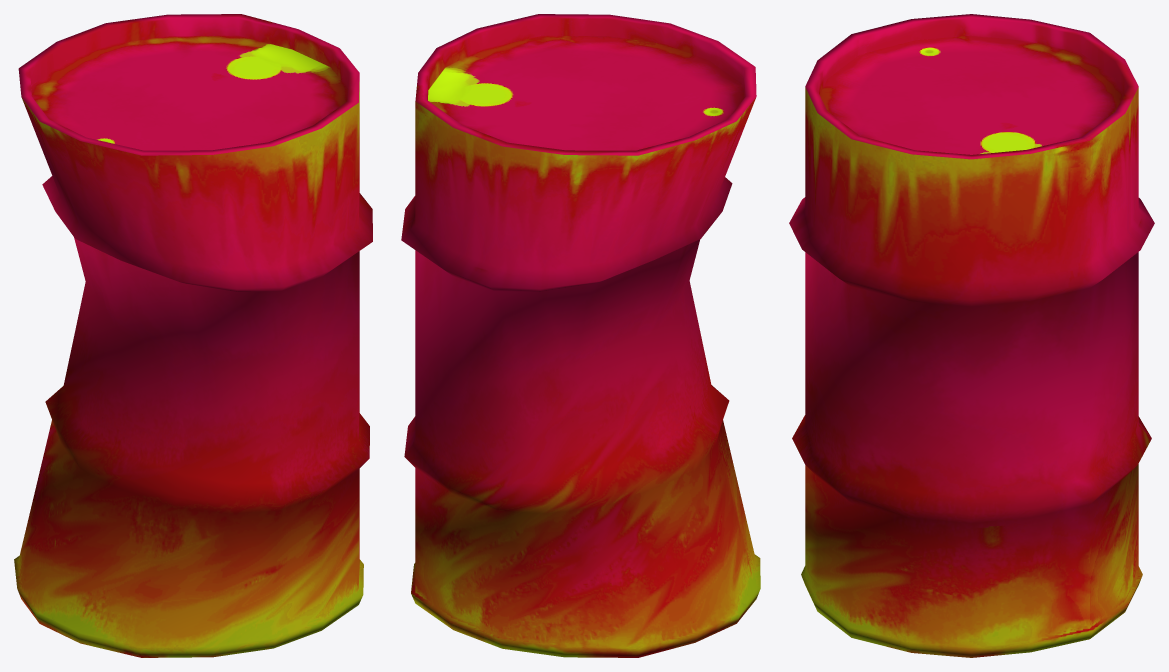
Rendered from Barrel_2.fbx.
3 renders of one model, left to right at view 1: azimuth 30°, elevation 25°; view 2: azimuth 150°, elevation 25°; view 3: azimuth 270°, elevation 25°, orthographic.
Visible parts, largest first — view 1: Barrel_2; view 2: Barrel_2; view 3: Barrel_2.
Part boxes in pixels (bbox=[...]): Barrel_2: bbox=[14, 14, 372, 657]; Barrel_2: bbox=[401, 14, 760, 657]; Barrel_2: bbox=[789, 14, 1154, 657].
Size of the model in its own units: 61.97 by 94.37 by 62.76.
Materials: 1 (1 with a texture image).
